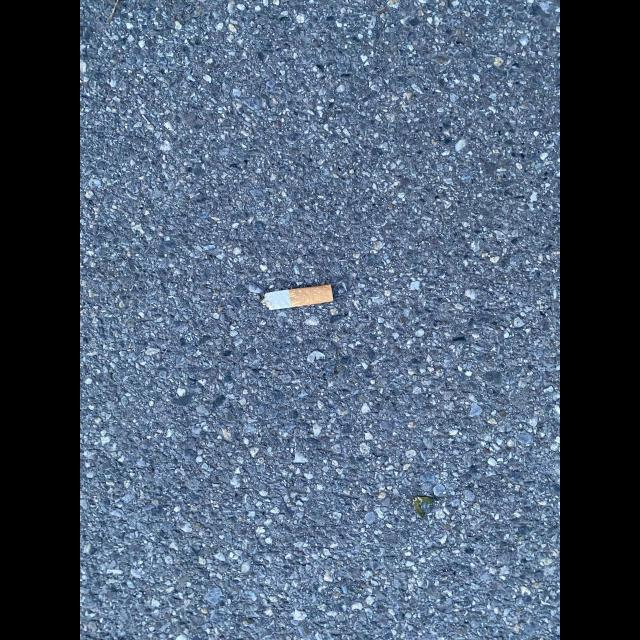cigarette: (260, 284, 334, 310)
